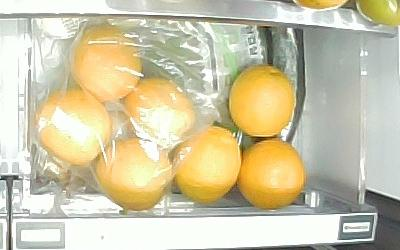orange: (174, 123, 241, 205), (229, 62, 296, 139), (237, 139, 305, 210)
orange_vinyl: (34, 90, 109, 167), (68, 24, 142, 99), (98, 138, 174, 211), (123, 76, 197, 148)
